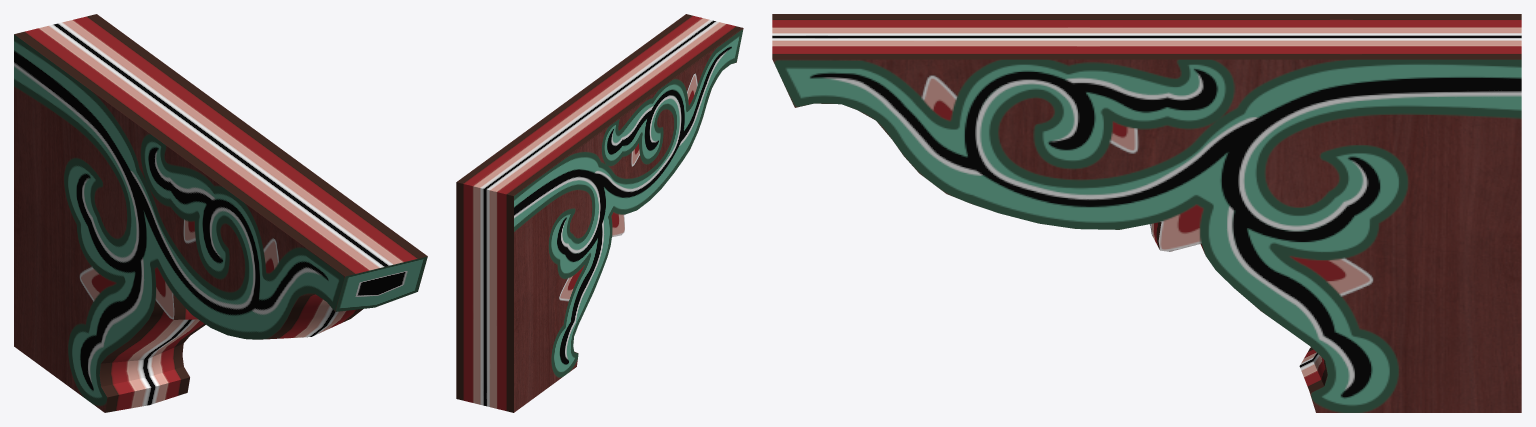
The model's file is SM_Boaji02F.fbx.
3 views of the same model, side by side, from view 1: azimuth 30°, elevation 25°; view 2: azimuth 150°, elevation 25°; view 3: azimuth 270°, elevation 25° (orthographic). The views are drawn at different scales.
Visible parts, largest first — view 1: SM_Boaji02F; view 2: SM_Boaji02F; view 3: SM_Boaji02F.
Part boxes in pixels (x1=…): SM_Boaji02F: x1=14, y1=14, x2=427, y2=412; SM_Boaji02F: x1=456, y1=14, x2=743, y2=412; SM_Boaji02F: x1=772, y1=14, x2=1521, y2=412.
Bounding box in the file's own units: 9.96 × 68.97 × 35.9.
Materials: 1 (1 with a texture image).
